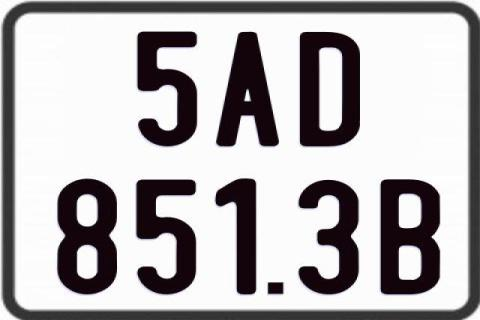0: (298, 178, 362, 294), (135, 177, 195, 297), (134, 31, 194, 147), (57, 176, 117, 292), (212, 178, 259, 294)
A: (214, 31, 278, 148)
B: (378, 177, 441, 297)
D: (299, 32, 360, 149)
